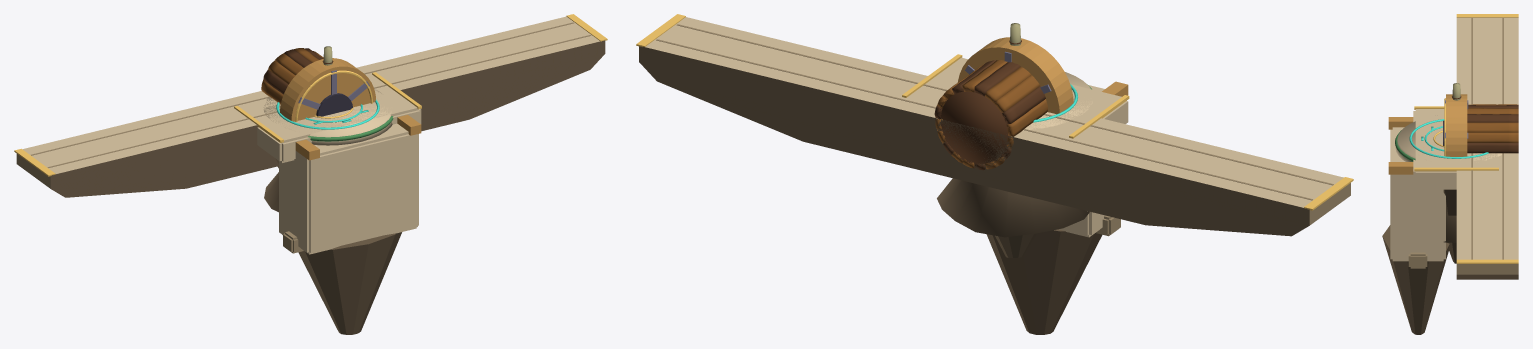
Rendered from props7-7040090c.glb.
3 renders of one model, left to right at view 1: azimuth 30°, elevation 25°; view 2: azimuth 150°, elevation 25°; view 3: azimuth 270°, elevation 25°, orthographic. The views are drawn at different scales.
Visible parts, largest first — view 1: tilt_deck, roller_hub, roller_pad, step_stone, roller_log; view 2: tilt_deck, roller_hub, roller_log, step_stone, roller_pad; view 3: tilt_deck, roller_hub, roller_pad, roller_log, step_stone, roller_peg.
Part boxes in pixels (x1,y1,x2,y2): tilt_deck: (14, 14, 607, 197); roller_hub: (279, 58, 421, 334); roller_pad: (234, 72, 421, 168); step_stone: (263, 89, 393, 212); roller_log: (261, 48, 323, 104); tilt_deck: (636, 14, 1353, 236); roller_hub: (957, 37, 1128, 334); roller_log: (934, 60, 1047, 170); step_stone: (937, 72, 1092, 237); roller_pad: (902, 54, 1129, 257); tilt_deck: (1456, 14, 1518, 279); roller_hub: (1382, 94, 1468, 334); roller_pad: (1413, 106, 1498, 263); roller_log: (1467, 104, 1518, 153); step_stone: (1395, 119, 1502, 242); roller_peg: (1452, 83, 1461, 100).
Bounding box in the file's own units: 9.48 × 4.38 × 2.2.
Materials: 1 (1 with a texture image).
